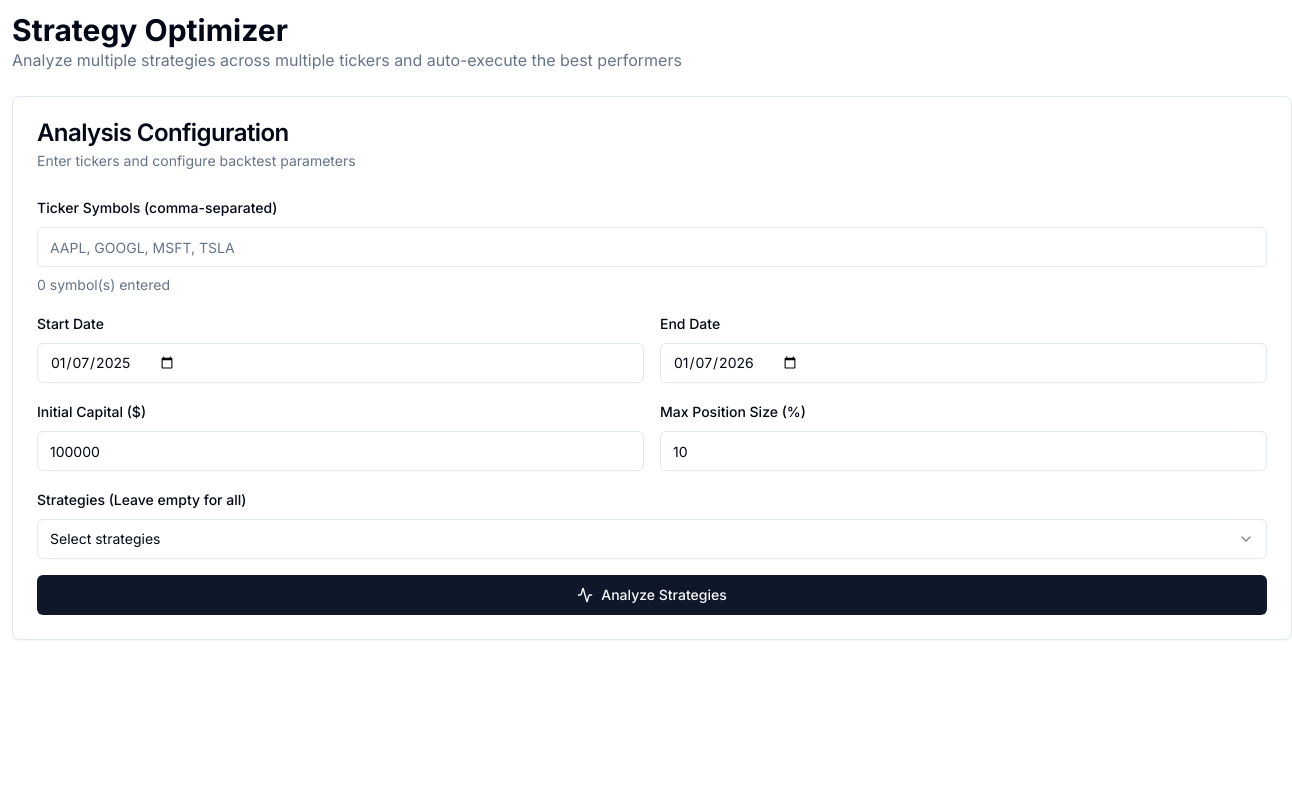
Test: OptimizerPage › Analysis Submission › shows error when no symbols are entered
This screenshot has width=1292, height=812.
Click the button "Analyze Strategies" at (652, 595), box x1=37 y1=575 x2=1267 y2=615
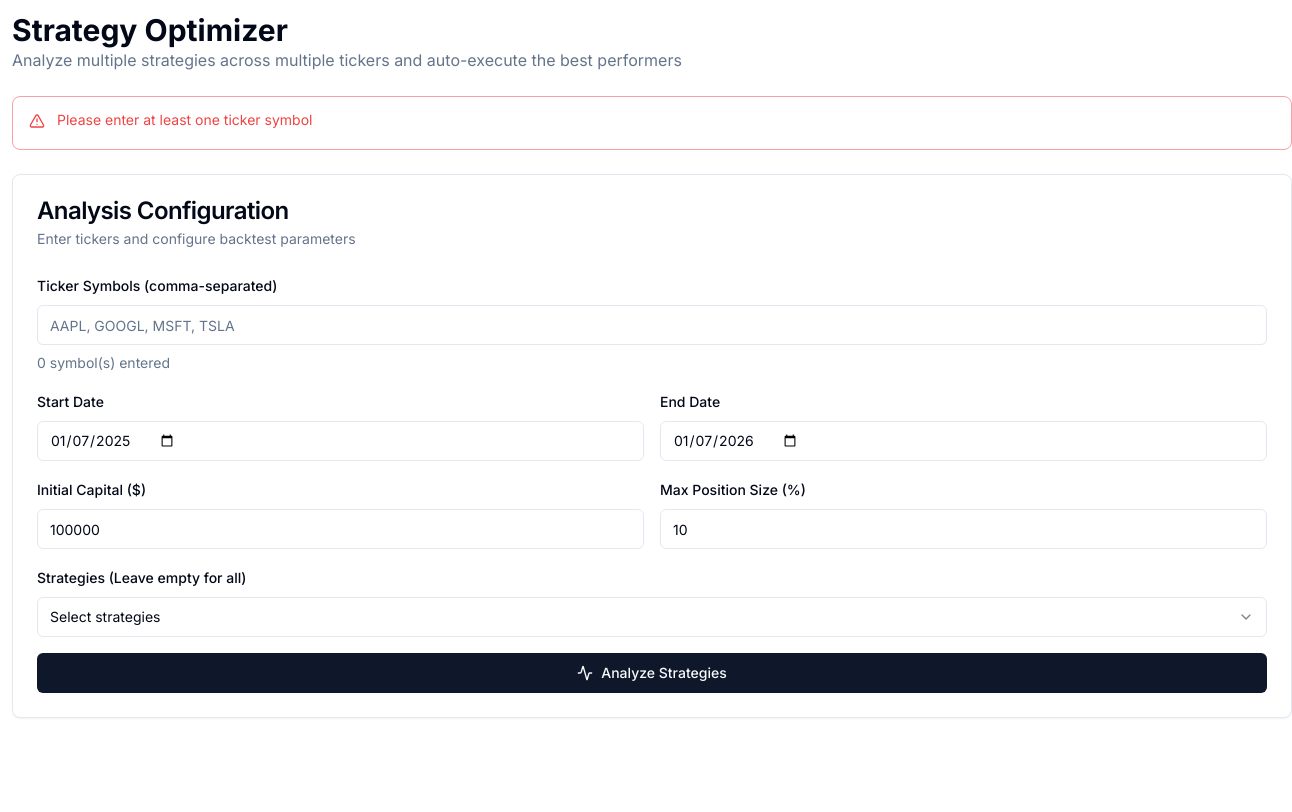
Now the text "Please enter at least one ticker symbol" is shown, box x1=57 y1=111 x2=312 y2=128
